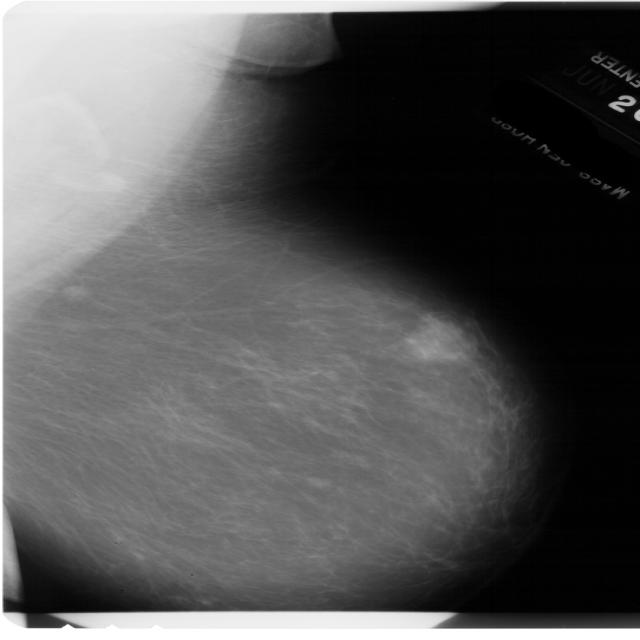tumour: (406, 313, 474, 362)
